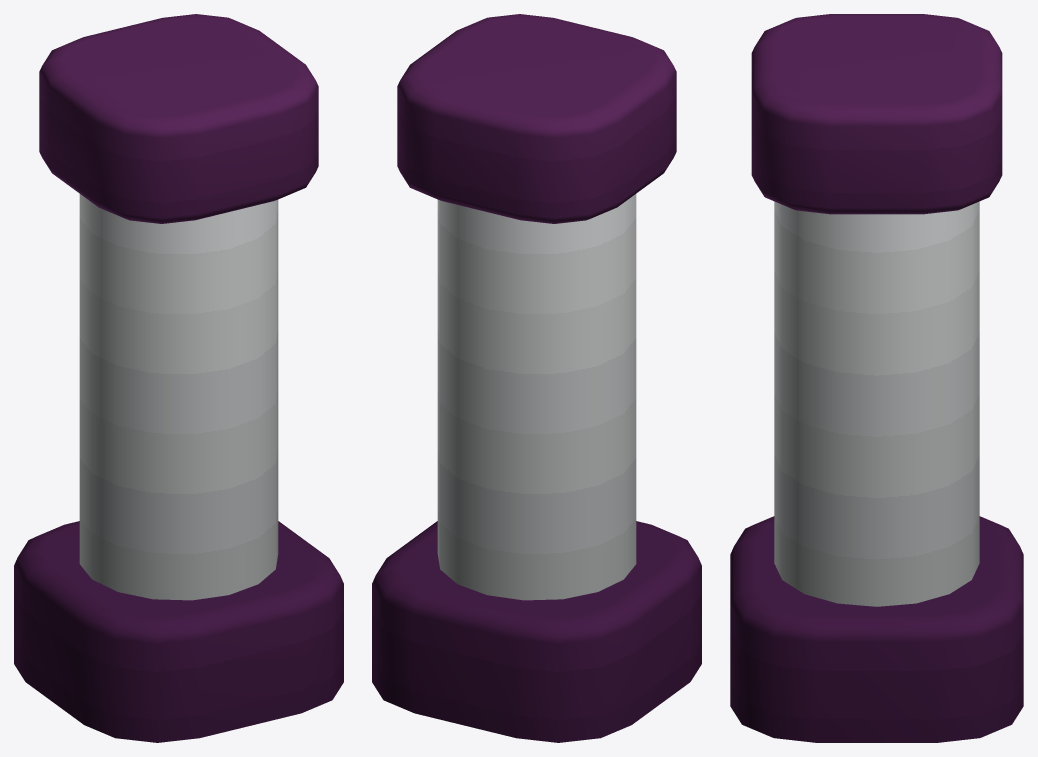
The model's file is Env1_Pillar_Purple.fbx.
3 views of the same model, side by side, from view 1: azimuth 30°, elevation 25°; view 2: azimuth 150°, elevation 25°; view 3: azimuth 270°, elevation 25° (orthographic). The views are drawn at different scales.
Visible parts, largest first — view 1: Env1_Pillar; view 2: Env1_Pillar; view 3: Env1_Pillar.
Part boxes in pixels (left/top/right/bottom): Env1_Pillar: left=14, top=14, right=343, bottom=742; Env1_Pillar: left=372, top=14, right=701, bottom=742; Env1_Pillar: left=730, top=14, right=1023, bottom=742.
Bounding box in the file's own units: 85.28 × 199 × 85.28.
